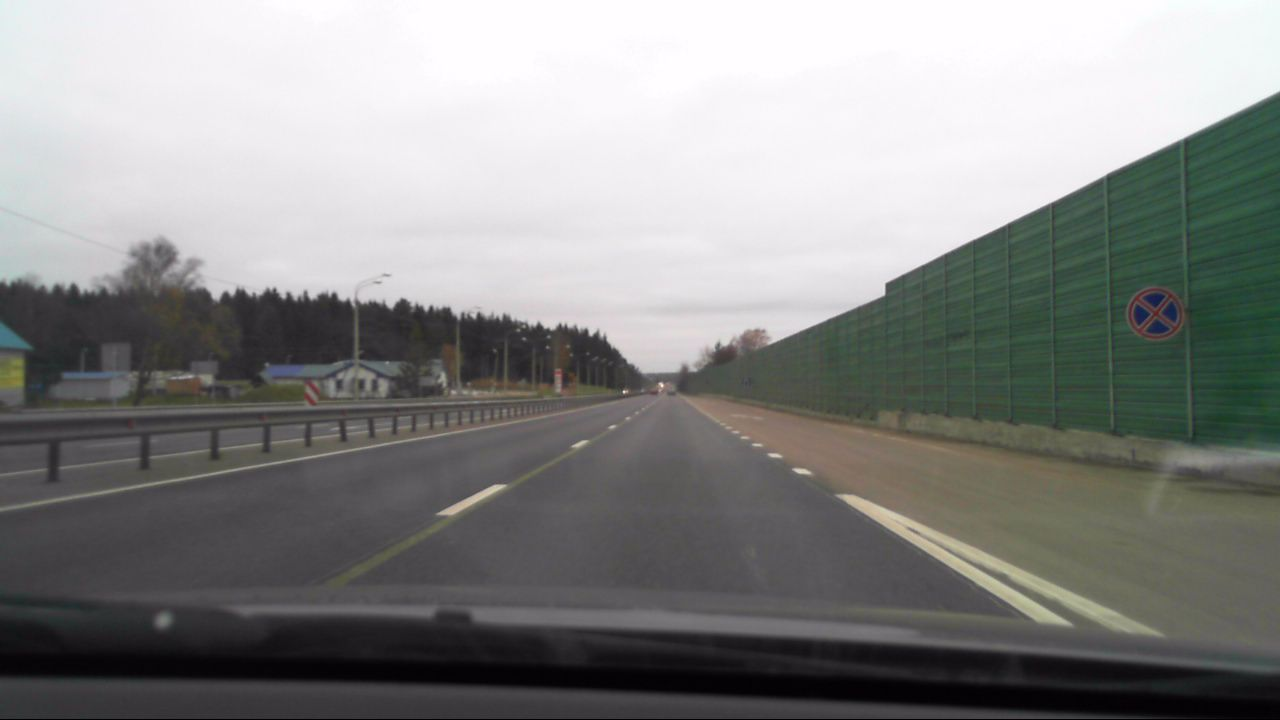No Parking: (1124, 286, 1186, 342)
